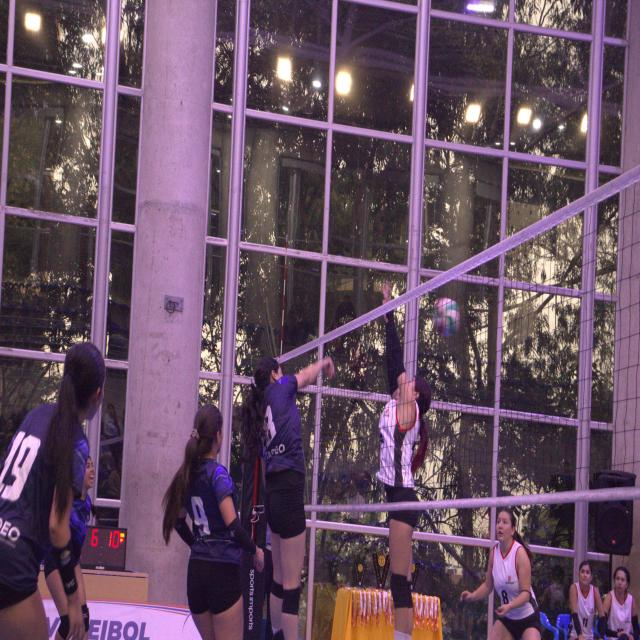volleyball: (433, 297, 462, 335)
